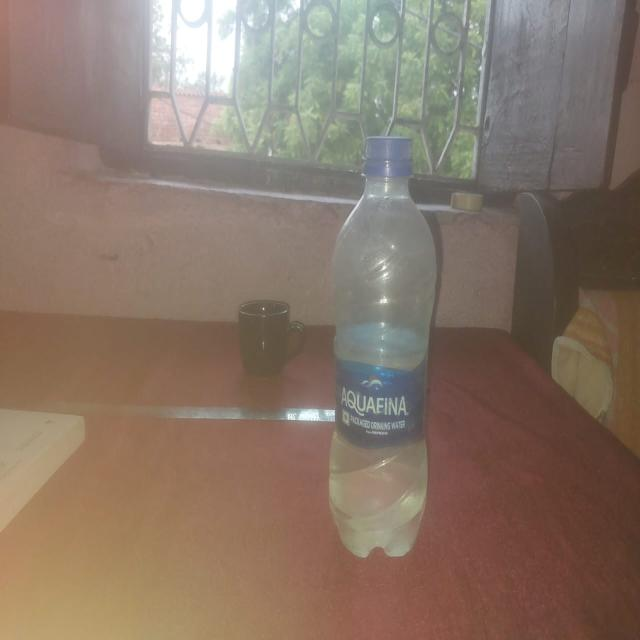Bottle: (321, 132, 440, 558)
Cup: (232, 289, 308, 375)
scale: (90, 381, 338, 435)
